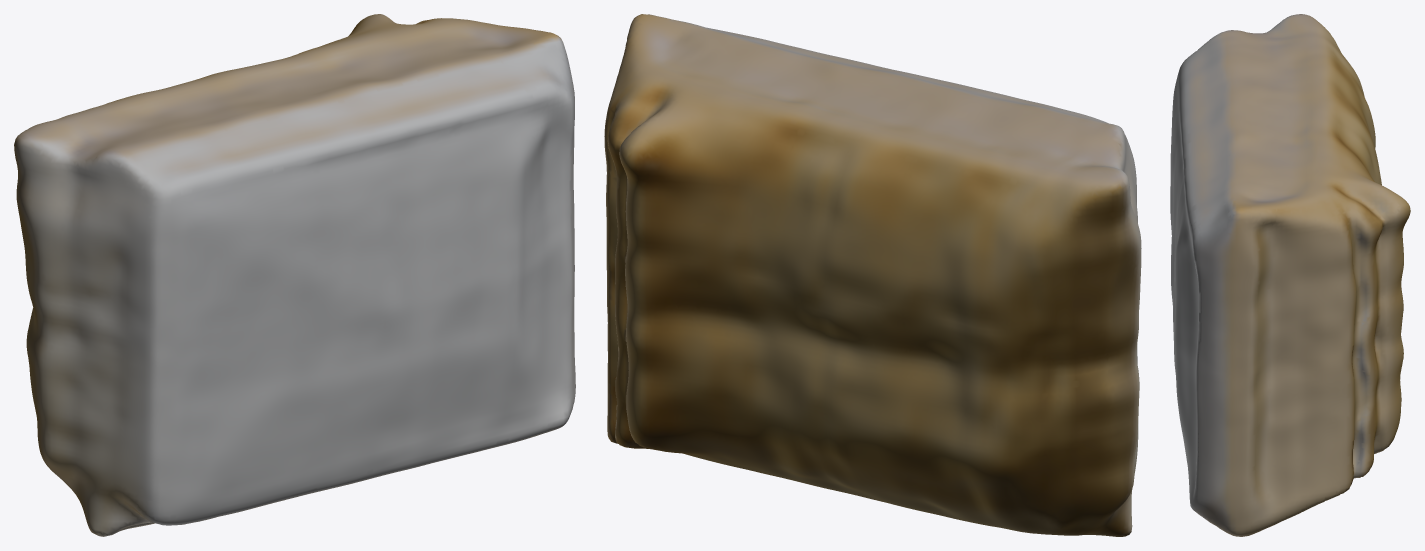
The model's file is soap.glb.
3 renders of one model, left to right at view 1: azimuth 30°, elevation 25°; view 2: azimuth 150°, elevation 25°; view 3: azimuth 270°, elevation 25°, orthographic. The views are drawn at different scales.
Bounding box in the file's own units: 0.9998 × 0.7372 × 0.4833.
